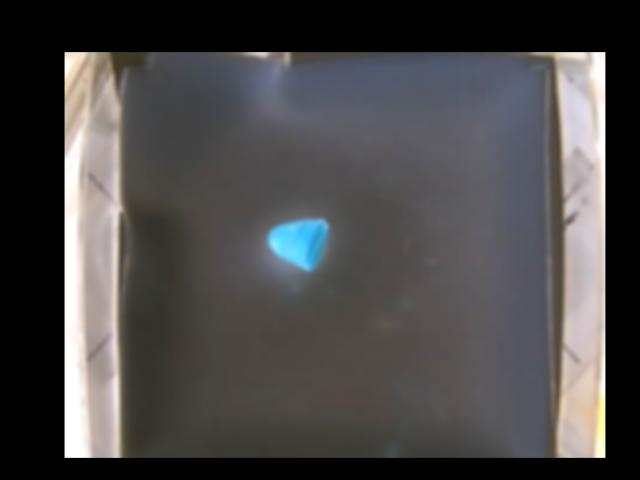Carrot: (266, 219, 328, 270)
